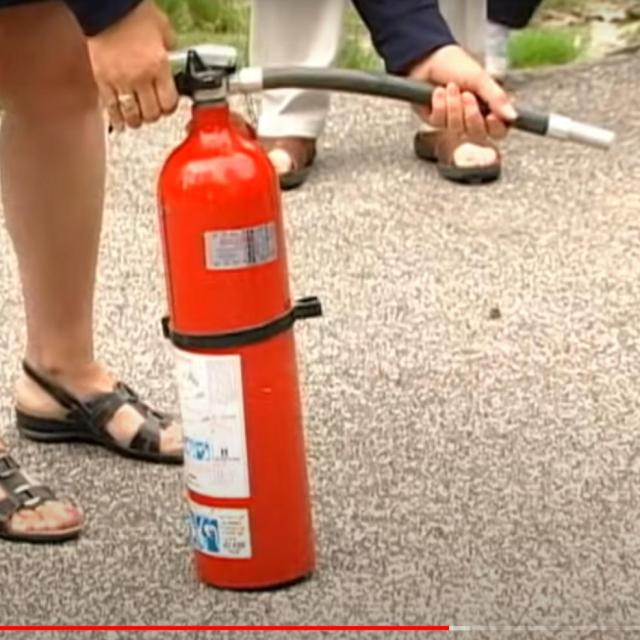fire_extinguisher: (102, 36, 623, 597)
